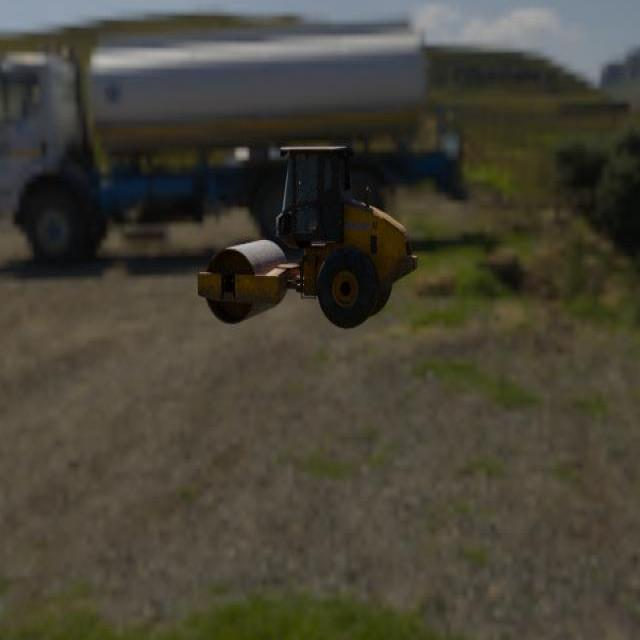Roller: (197, 146, 417, 330)
